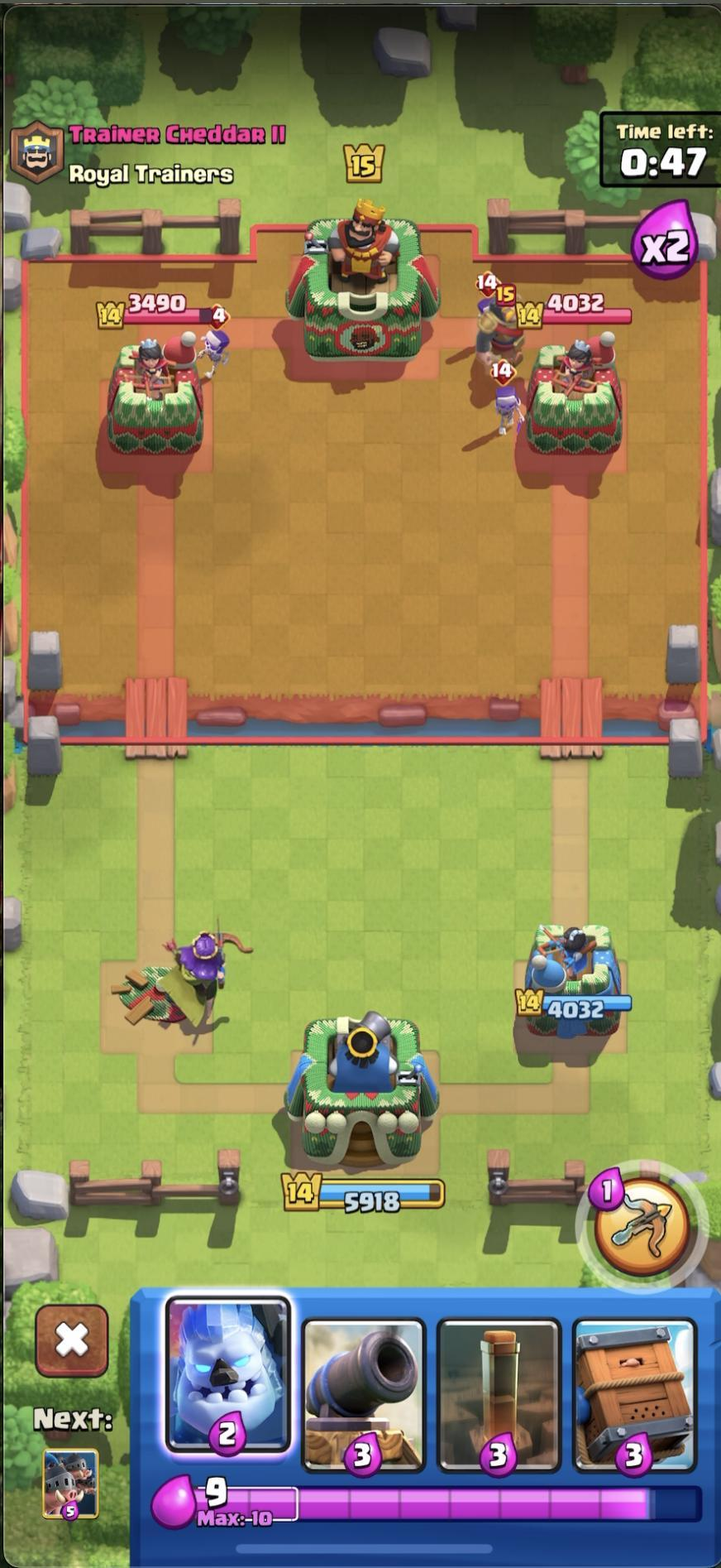card_cannon: (296, 1311, 431, 1477)
card_earthquake: (435, 1310, 568, 1476)
card_icegolem: (153, 1286, 291, 1460)
card_royaldelivery: (570, 1313, 701, 1477)
card_royalhogs: (38, 1444, 110, 1517)
